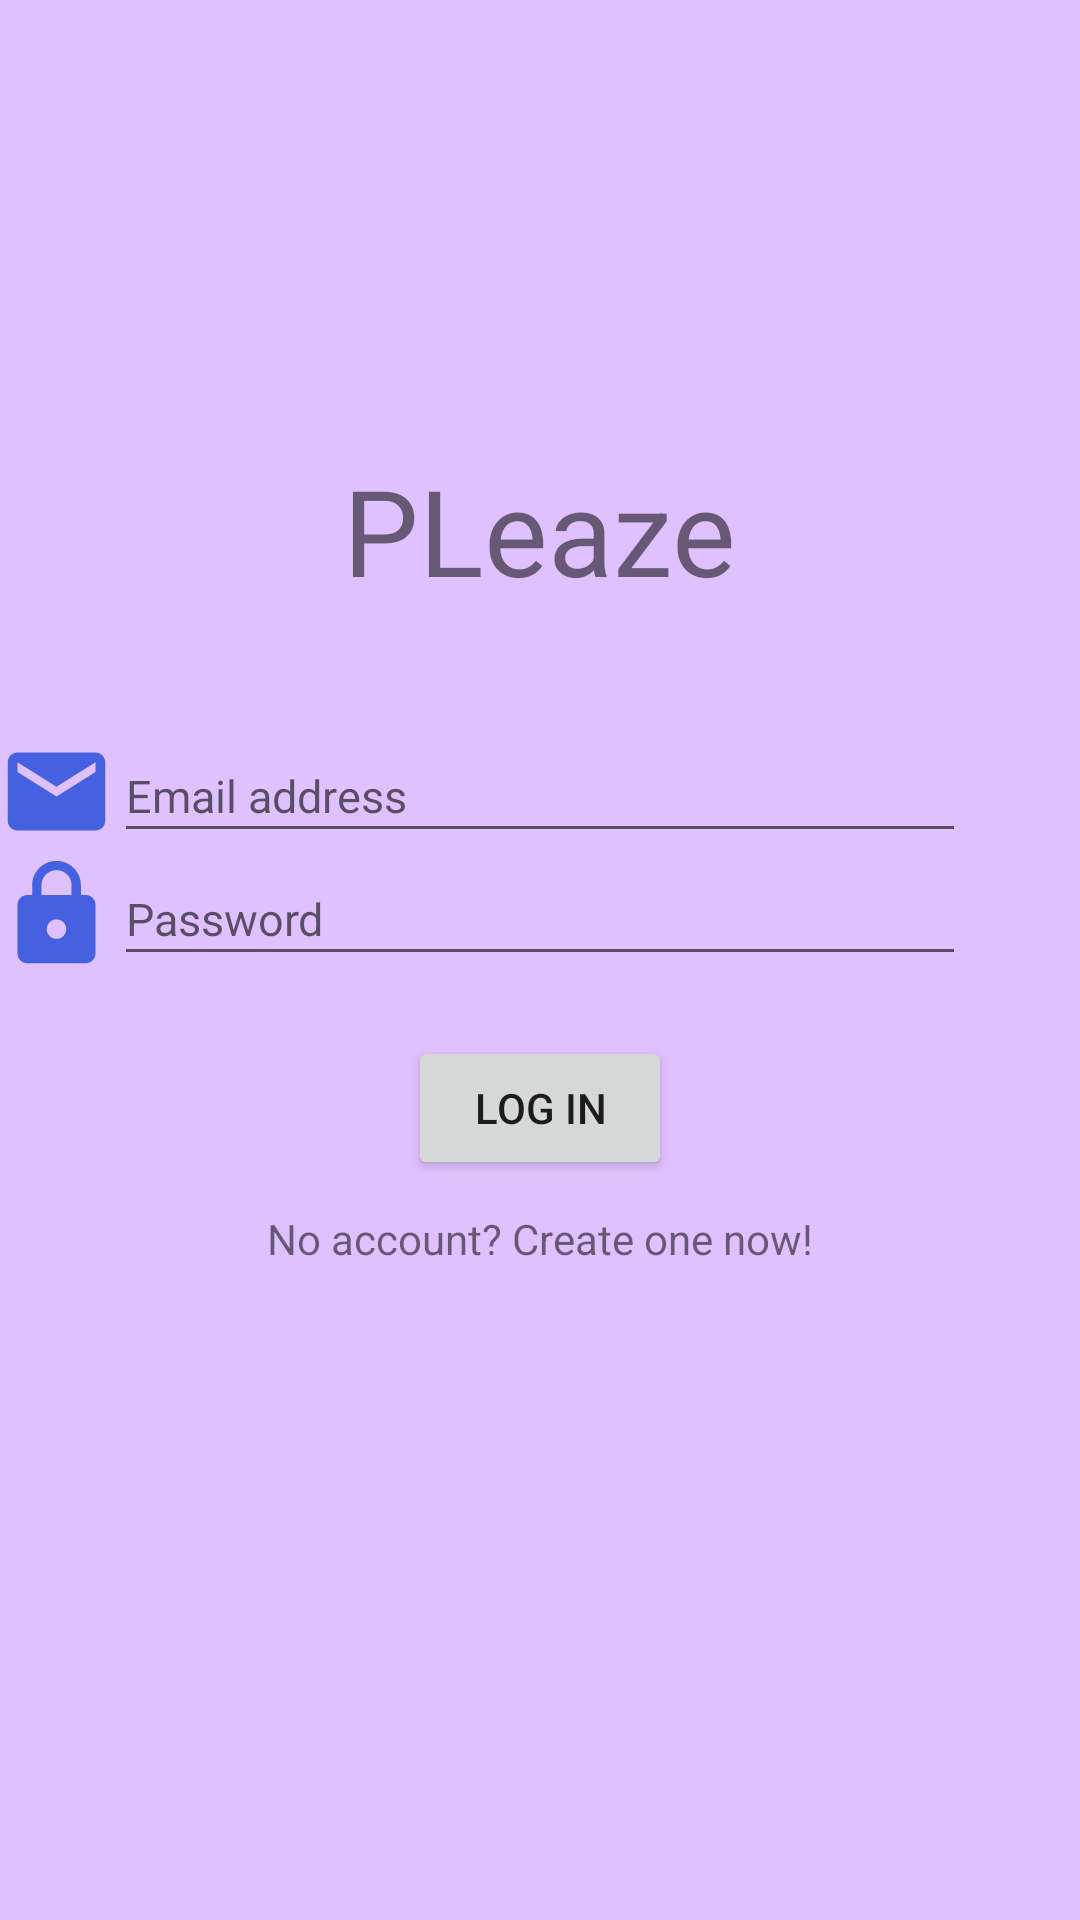

Where icons sit on this 1080x1920 app screen, as (x1, y1, x2, y2):
lock: (17, 861, 96, 964)
